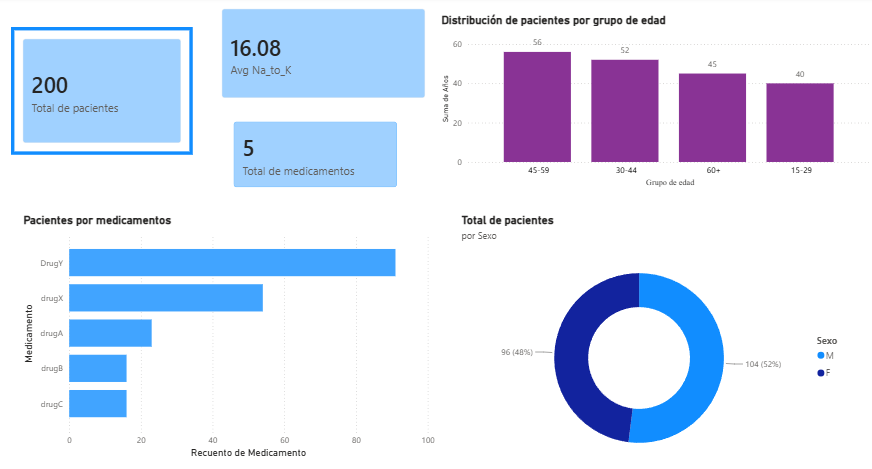

Layout of this report page (visuals, bound fields, positions):
{"tool":"powerbi","page":{"name":"Página 1","canvas":[1280,720],"ordinal":0},"visuals":[{"type":"cardVisual","fields":{"Data":["fact_prescriptions.Total Patients"]},"box":[16.1,43.9,266.3,187.3],"z":0},{"type":"barChart","title":"Pacientes por medicamentos","fields":{"Category":["fact_prescriptions.Drug"],"Y":["CountNonNull(fact_prescriptions.Drug)"]},"box":[29.3,316.1,611.7,362.9],"z":1000},{"type":"cardVisual","fields":{"Data":["fact_prescriptions.Total Drugs"]},"box":[324.9,165.4,273.7,130.2],"z":2000},{"type":"donutChart","fields":{"Category":["fact_prescriptions.Sex"],"Y":["fact_prescriptions.Total Patients"]},"box":[670.2,316.1,581,383.4],"z":3000},{"type":"cardVisual","fields":{"Data":["fact_prescriptions.Avg Na_to_K"]},"box":[307.3,0,332.2,165.4],"z":4000},{"type":"columnChart","title":"Distribución de pacientes por grupo de edad ","fields":{"Category":["fact_prescriptions.Grupo de edad"],"Y":["fact_prescriptions.Total Pacientes"]},"box":[641,23.4,639.5,259],"z":5000}]}

Visuals, with their boxes on the page's 1280x720 design canvas (x1, y1, x2, y2). These are canvas units, not pixel positions in the 872x469 screenshot, which may show the page scaled, cropped or inside an application window:
cardVisual - fact_prescriptions.Total Patients: (16, 44, 282, 231)
"Pacientes por medicamentos" barChart: (29, 316, 641, 679)
cardVisual - fact_prescriptions.Total Drugs: (325, 165, 599, 296)
donutChart - fact_prescriptions.Sex x fact_prescriptions.Total Patients: (670, 316, 1251, 700)
cardVisual - fact_prescriptions.Avg Na_to_K: (307, 0, 640, 165)
"Distribución de pacientes por grupo de edad " columnChart: (641, 23, 1280, 282)
